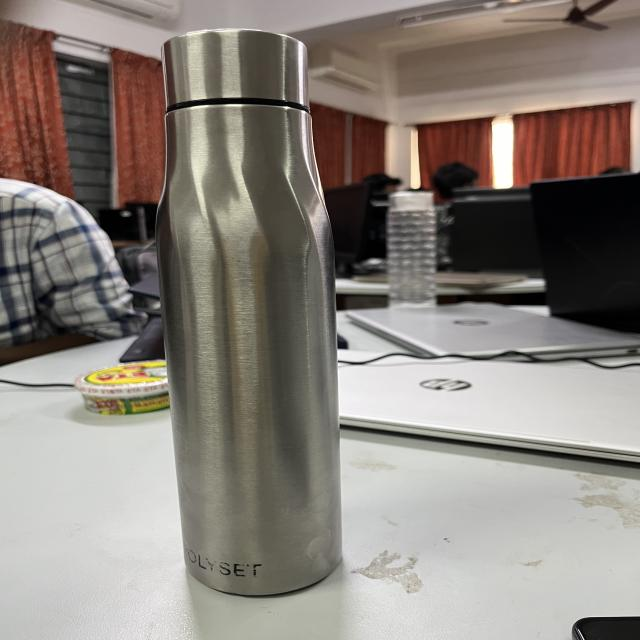L3: (142, 21, 362, 598)
